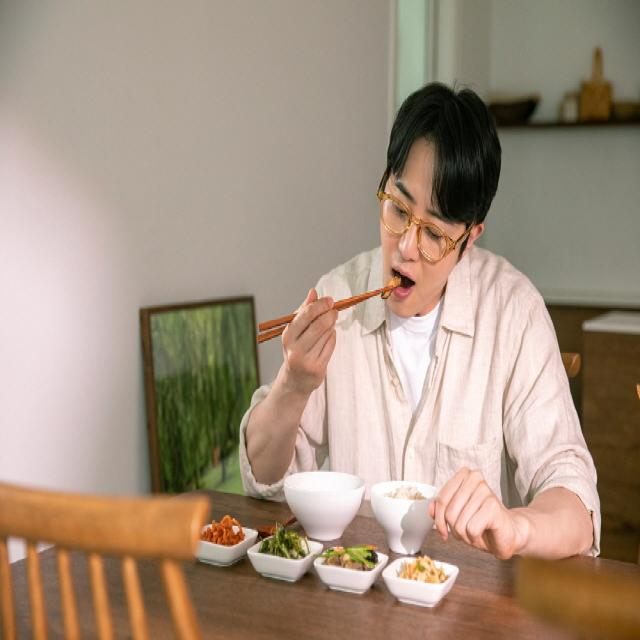eating-person: (220, 57, 619, 615)
